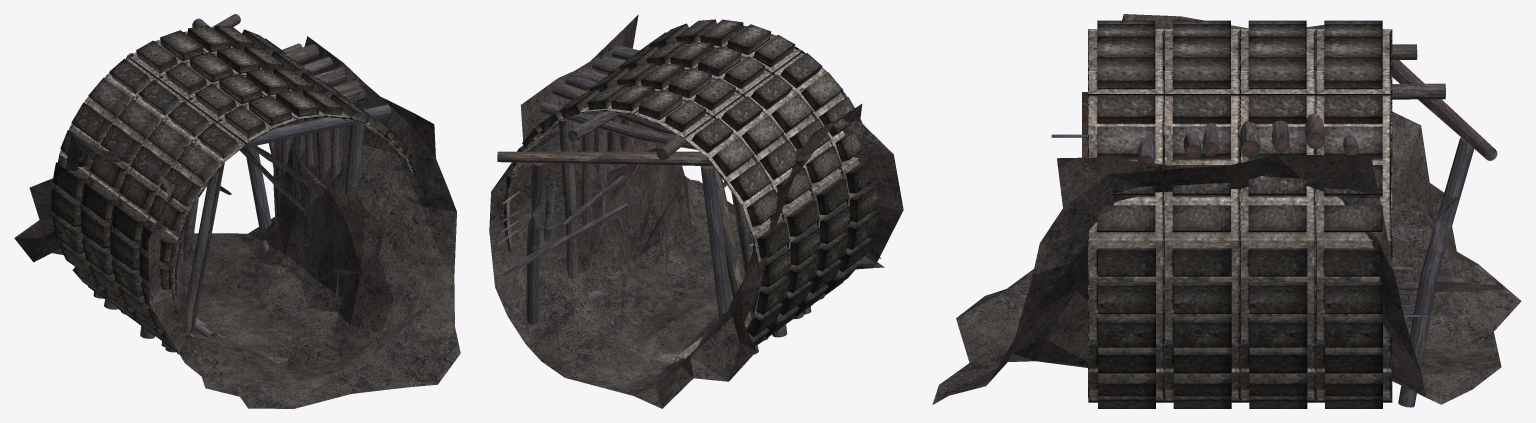
File: tunnel_zelezo_derevo.obj
The picture shows the model from 3 angles, left to right: view 1: azimuth 30°, elevation 25°; view 2: azimuth 150°, elevation 25°; view 3: azimuth 270°, elevation 25°; orthographic projection. The views are drawn at different scales.
Parts seen in each view (by area): view 1: grnd_l10, wood_brevna_01, concrete34_opalubka_tunnel_ao001, concrete34_opalubka_tunnel_ao002, concrete34_opalubka_tunnel_ao, concrete34_opalubka_tunnel_ao003; view 2: grnd_l10, wood_brevna_01, concrete34_opalubka_tunnel_ao003, concrete34_opalubka_tunnel_ao002, concrete34_opalubka_tunnel_ao001, concrete34_opalubka_tunnel_ao, metal_rja_trubi, floor_tunnel_pod003; view 3: grnd_l10, concrete34_opalubka_tunnel_ao001, concrete34_opalubka_tunnel_ao002, concrete34_opalubka_tunnel_ao, concrete34_opalubka_tunnel_ao003, wood_brevna_01.
Part boxes in pixels (x1,y1,x2,y2): grnd_l10: (14,36,460,408); wood_brevna_01: (93,14,391,354); concrete34_opalubka_tunnel_ao001: (110,68,373,350); concrete34_opalubka_tunnel_ao002: (81,47,331,325); concrete34_opalubka_tunnel_ao: (140,90,415,359); concrete34_opalubka_tunnel_ao003: (51,25,301,298); grnd_l10: (489,14,903,408); wood_brevna_01: (497,45,824,354); concrete34_opalubka_tunnel_ao003: (504,84,790,345); concrete34_opalubka_tunnel_ao002: (558,62,820,344); concrete34_opalubka_tunnel_ao001: (607,41,849,323); concrete34_opalubka_tunnel_ao: (629,19,879,303); metal_rja_trubi: (543,182,601,299); floor_tunnel_pod003: (645,337,702,363); grnd_l10: (932,14,1521,404); concrete34_opalubka_tunnel_ao001: (1163,20,1240,408); concrete34_opalubka_tunnel_ao002: (1239,20,1316,408); concrete34_opalubka_tunnel_ao: (1088,20,1164,408); concrete34_opalubka_tunnel_ao003: (1315,20,1392,408); wood_brevna_01: (1137,44,1505,407).
Size of the model in its own units: 10.33 by 8.6 by 14.16.
